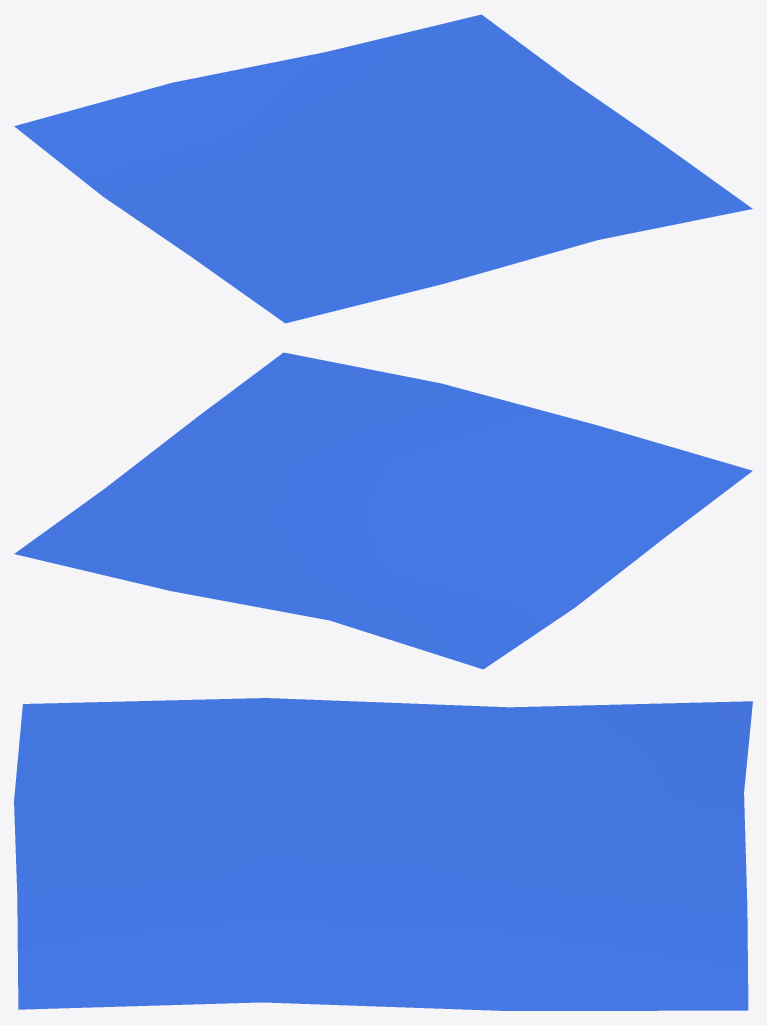
File: MicroFiberLens.FBX
The picture shows the model from 3 angles, top to bottom: view 1: azimuth 30°, elevation 25°; view 2: azimuth 150°, elevation 25°; view 3: azimuth 270°, elevation 25°; orthographic projection. The views are drawn at different scales.
Parts seen in each view (by area): view 1: MicroFiber; view 2: MicroFiber; view 3: MicroFiber.
Boxes of the visible parts, x1=… form: MicroFiber: x1=14, y1=14, x2=752, y2=323; MicroFiber: x1=14, y1=352, x2=752, y2=669; MicroFiber: x1=14, y1=698, x2=752, y2=1010.
Size of the model in its own units: 101 by 2.66 by 101.
